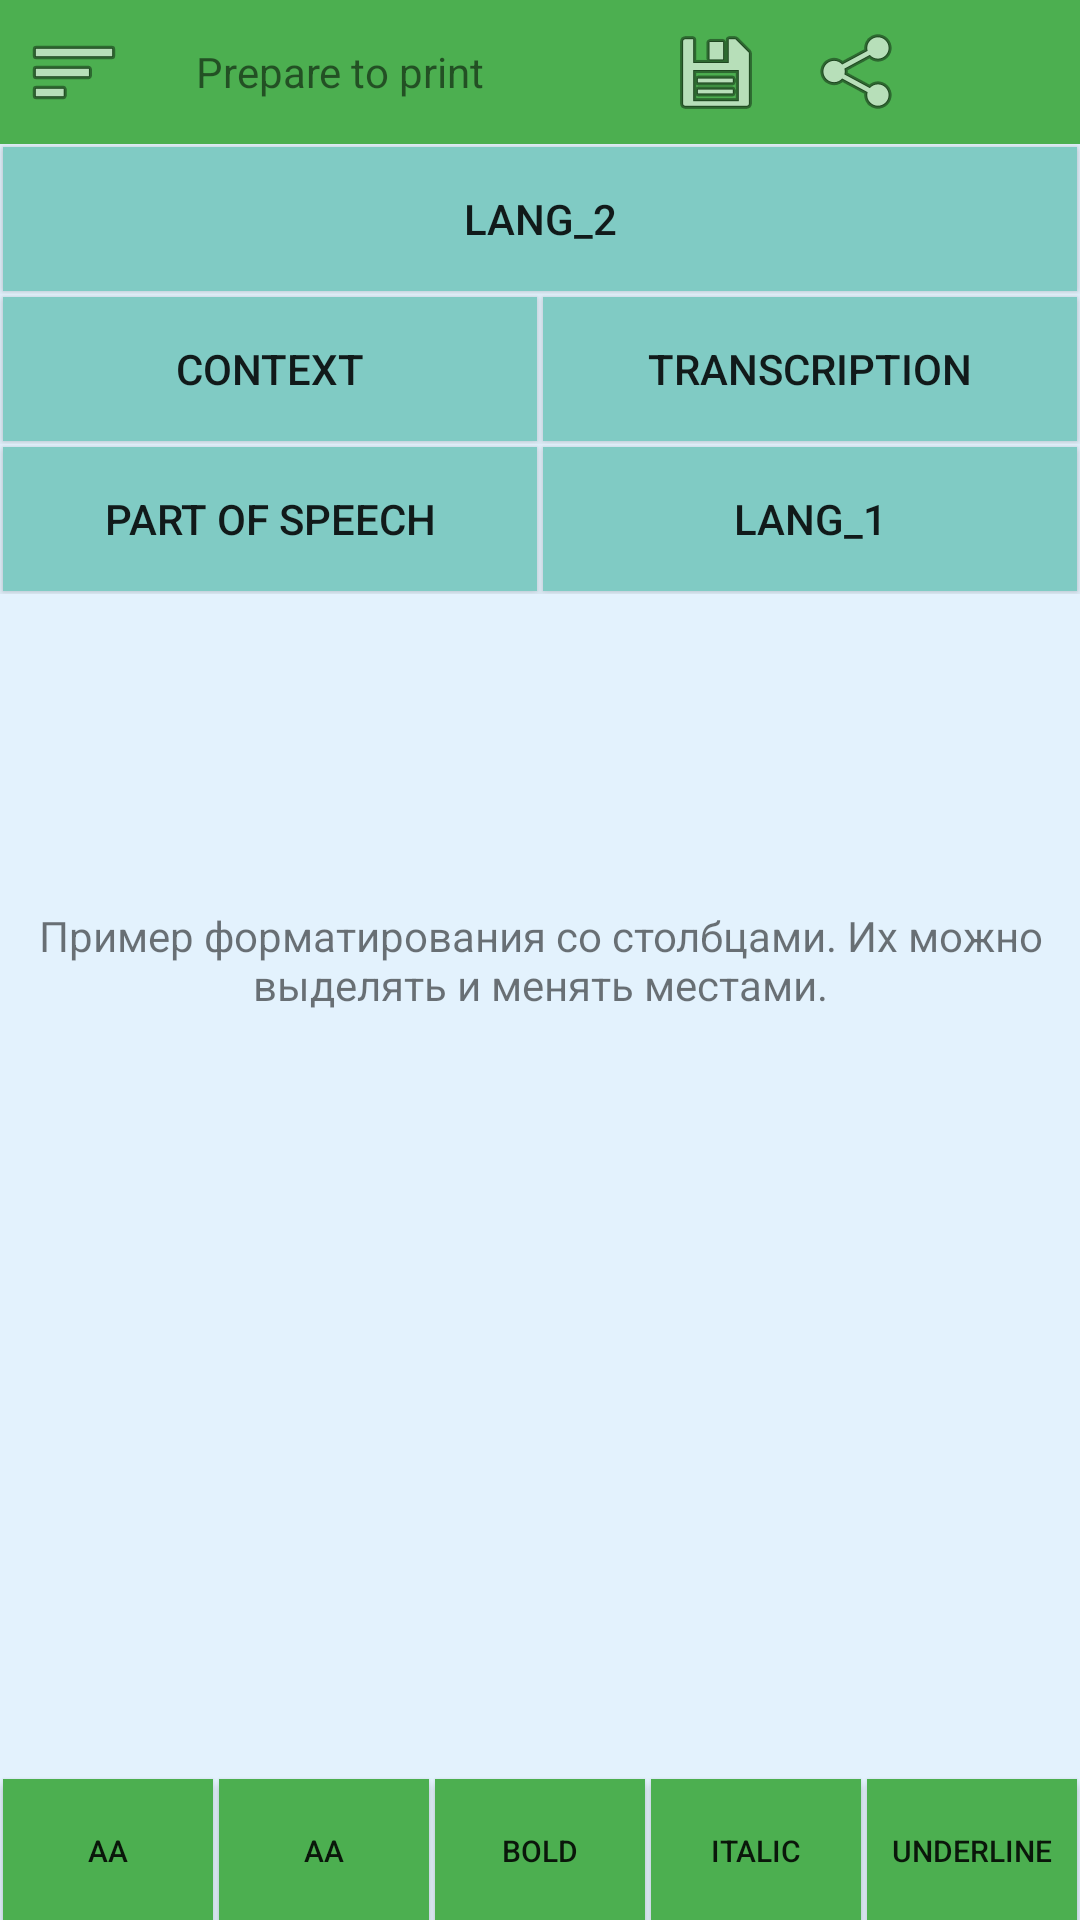

Screen size 1080x1920. Icon name, then its center in pixels as (x=x, y=y):
save: (x=716, y=72)
share: (x=856, y=71)
sort by size: (x=74, y=72)
